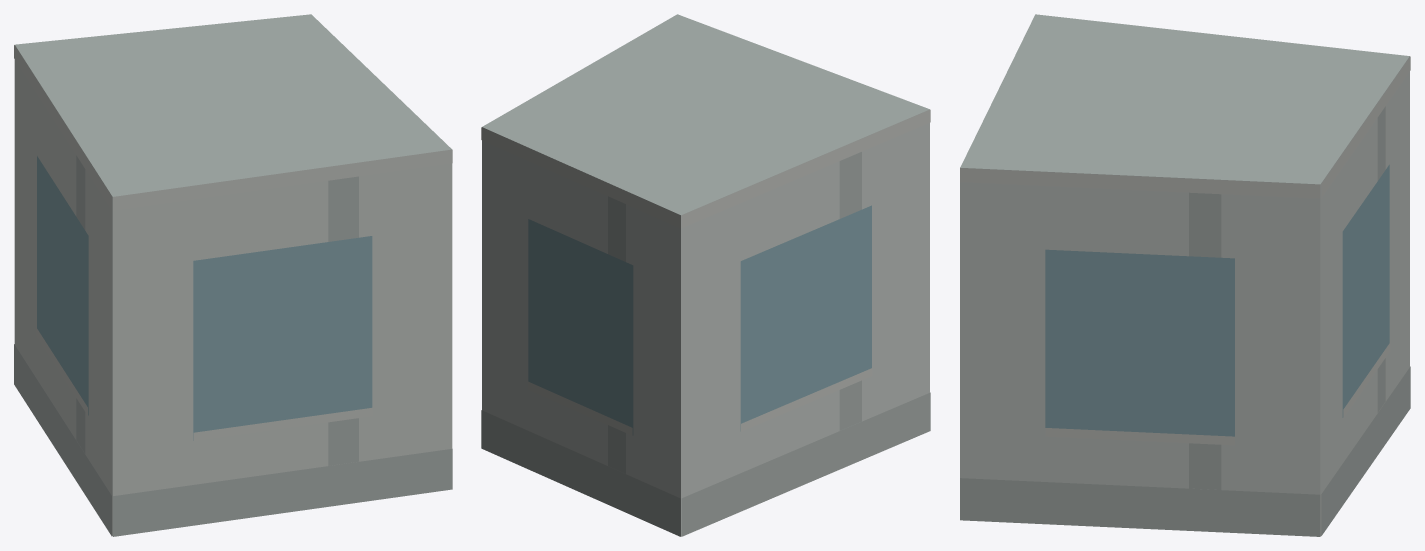
The model's file is residential-eaf29b03-019c-4b23-850f-2886e92c0f5e.glb.
The picture shows the model from 3 angles, left to right: view 1: azimuth 30°, elevation 25°; view 2: azimuth 150°, elevation 25°; view 3: azimuth 270°, elevation 25°; orthographic projection. The views are drawn at different scales.
Visible parts, largest first — view 1: residential-eaf29b03-019c-4b23-850f-2886e92c0f5e.tmp; view 2: residential-eaf29b03-019c-4b23-850f-2886e92c0f5e.tmp; view 3: residential-eaf29b03-019c-4b23-850f-2886e92c0f5e.tmp.
Part boxes in pixels (x1,y1,x2,y2): residential-eaf29b03-019c-4b23-850f-2886e92c0f5e.tmp: (14,14,452,536); residential-eaf29b03-019c-4b23-850f-2886e92c0f5e.tmp: (481,14,930,536); residential-eaf29b03-019c-4b23-850f-2886e92c0f5e.tmp: (960,14,1410,536).
Bounding box in the file's own units: 3.17 × 3.05 × 3.54.
